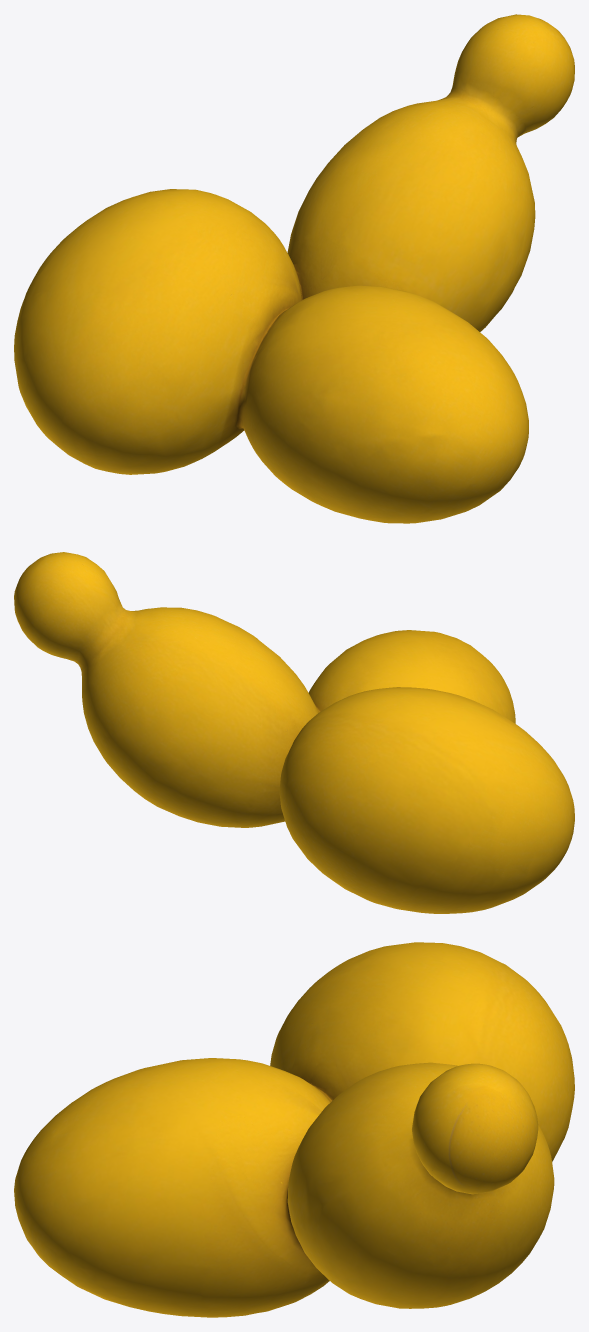
File: yeast.glb
3 views of the same model, one above another, from view 1: azimuth 30°, elevation 25°; view 2: azimuth 150°, elevation 25°; view 3: azimuth 270°, elevation 25° (orthographic). The views are drawn at different scales.
Bounding box in the file's own units: 1.9 × 1.07 × 1.45.
Materials: 1 (1 with a texture image).
